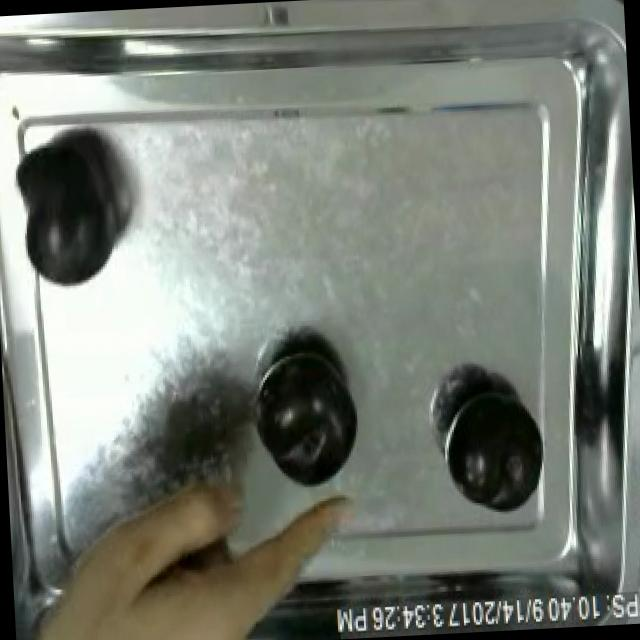Fruit: (6, 126, 132, 296), (123, 525, 299, 640), (249, 336, 365, 495), (440, 378, 550, 522)
